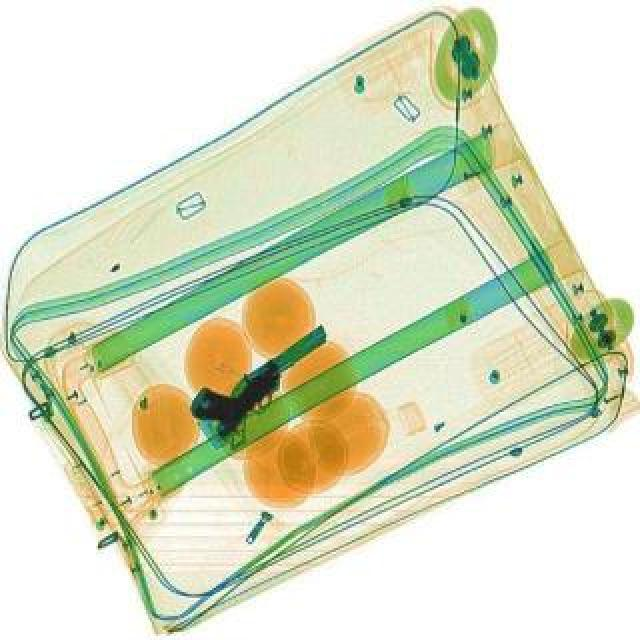gun: (194, 318, 358, 450), (182, 340, 290, 440)
